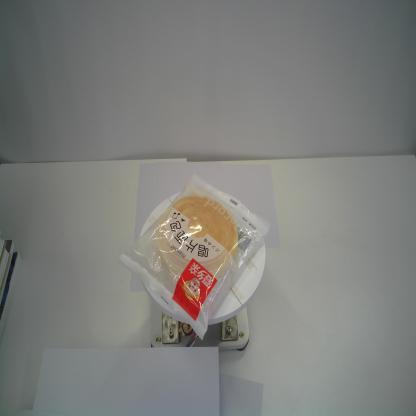Dessert: (119, 172, 271, 341)
